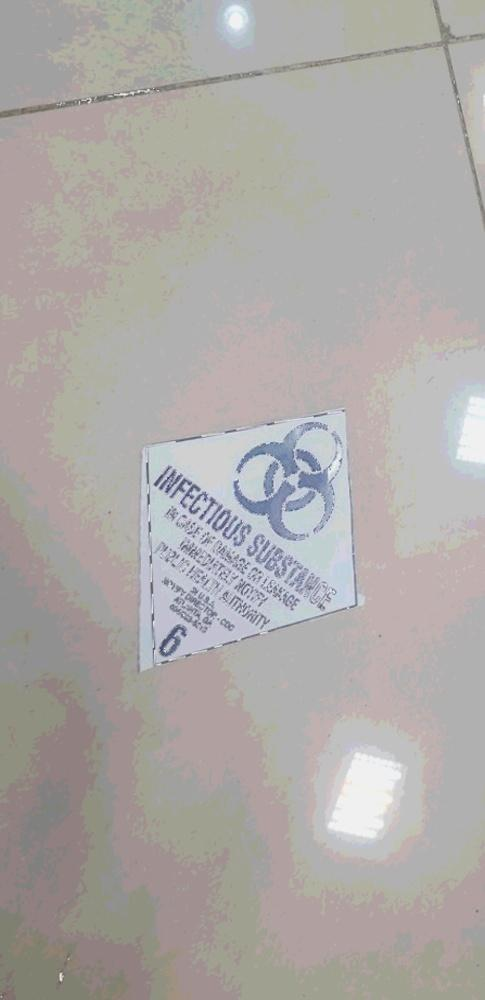infectious-substance: (132, 405, 368, 678)
